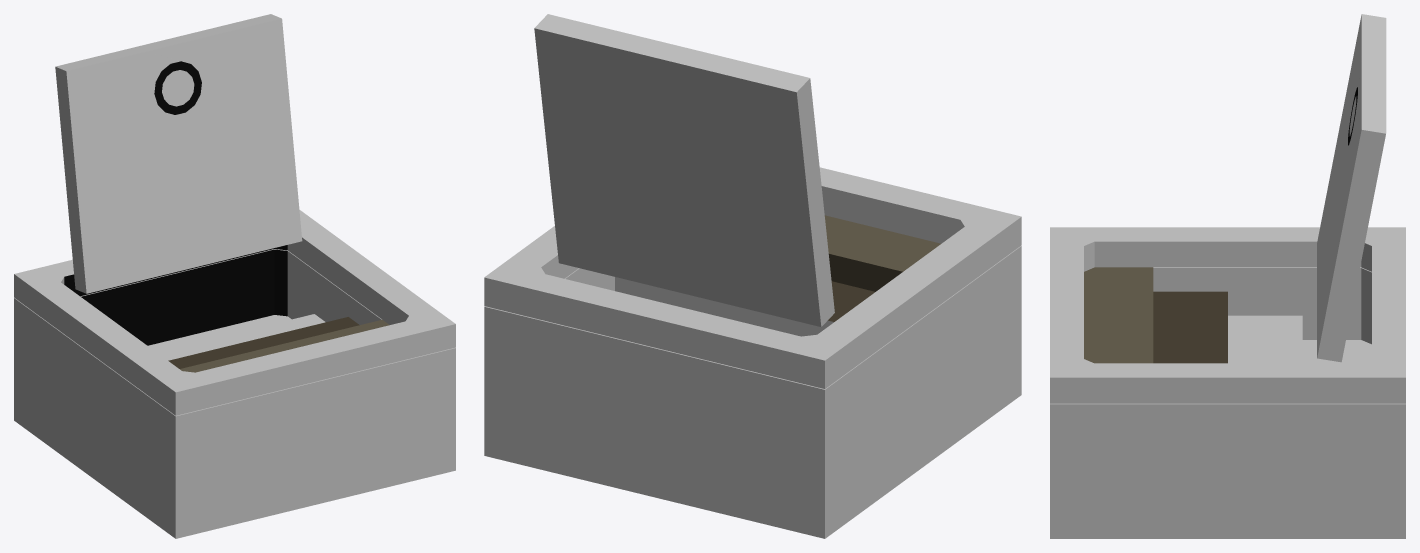
File: cqf_cellar_open.obj
3 renders of one model, left to right at view 1: azimuth 30°, elevation 25°; view 2: azimuth 150°, elevation 25°; view 3: azimuth 270°, elevation 25°, orthographic. The views are drawn at different scales.
Bounding box in the file's own units: 1 × 1.22 × 1.
